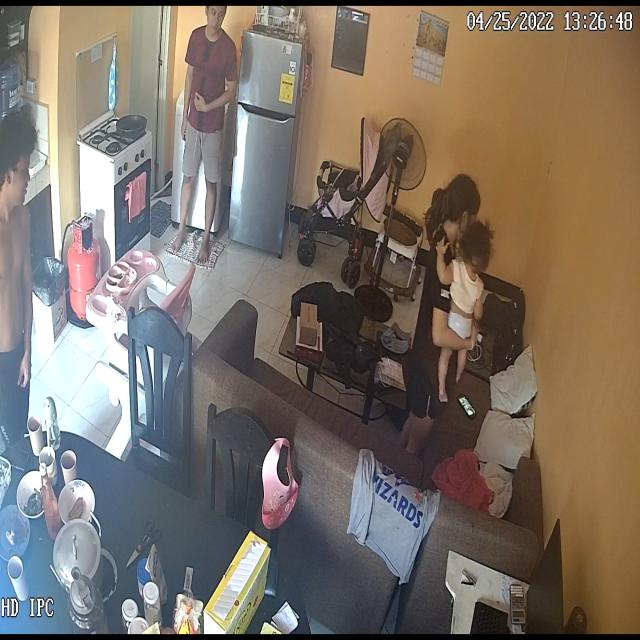adult: (394, 169, 488, 457), (163, 0, 244, 260), (0, 90, 57, 452)
child: (430, 218, 483, 410)
